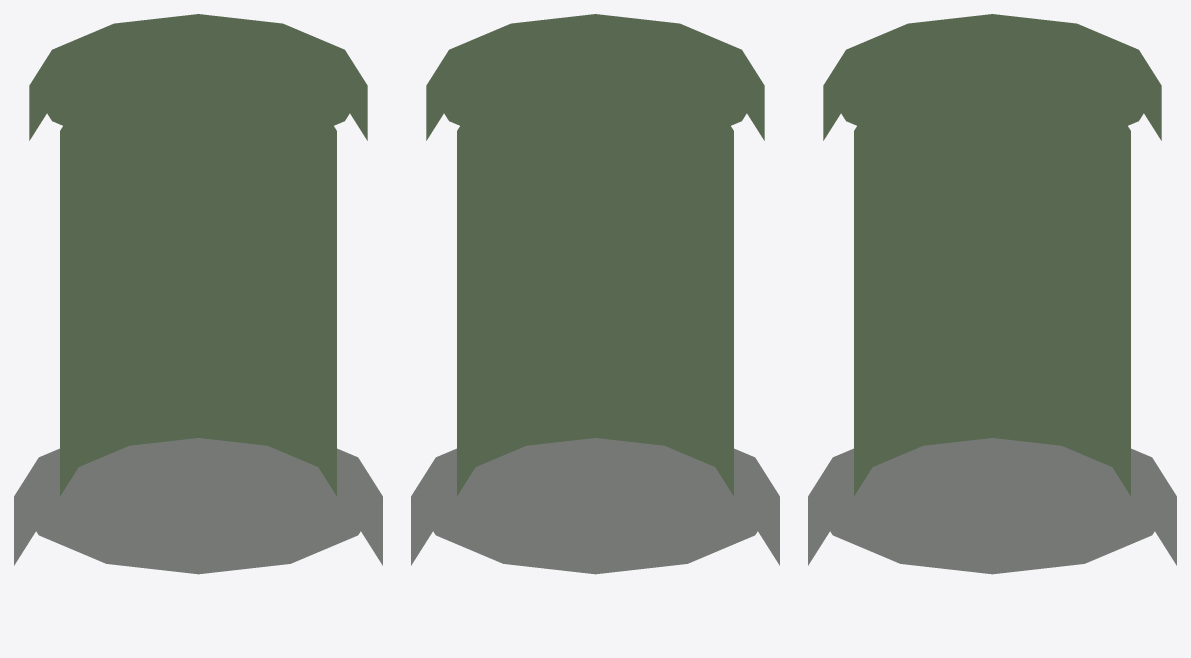
File: p_bench_urn.glb
3 renders of one model, left to right at view 1: azimuth 30°, elevation 25°; view 2: azimuth 150°, elevation 25°; view 3: azimuth 270°, elevation 25°, orthographic.
Parts seen in each view (by area): view 1: body; view 2: body; view 3: body.
Boxes of the visible parts, <box> form: body: <box>14,14,382,574</box>; body: <box>411,14,779,574</box>; body: <box>808,14,1176,574</box>.
Size of the model in its own units: 0.48 by 0.69 by 0.48.
